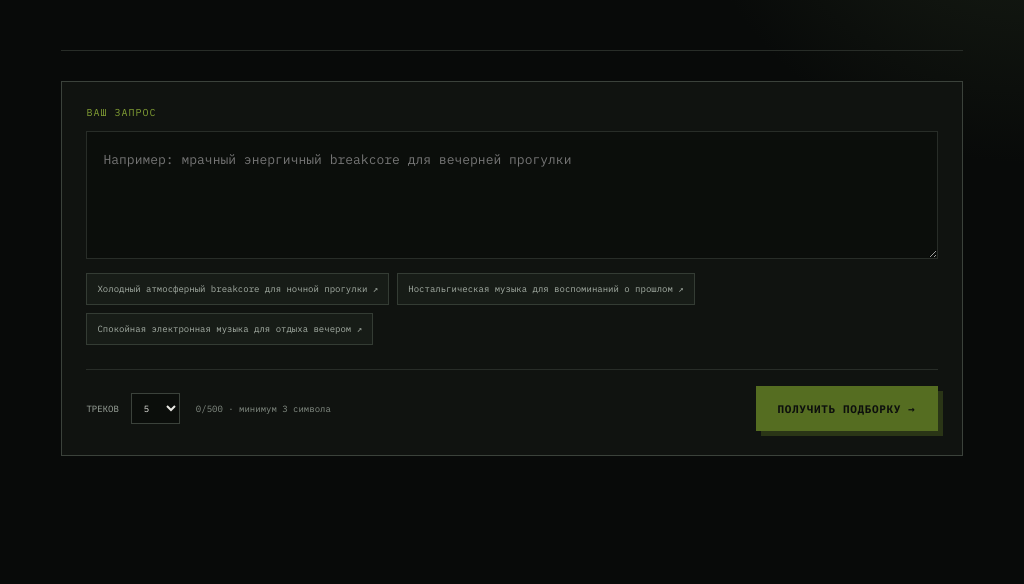
Test: CuratorView › keeps the query and allows retrying after a provider failure
The width and height of the screenshot is (1024, 584).
Type "Холодная музыка для прогулки" into the text box labelled "ВАШ ЗАПРОС". click: (512, 195)
box: x1=86 y1=131 x2=938 y2=259
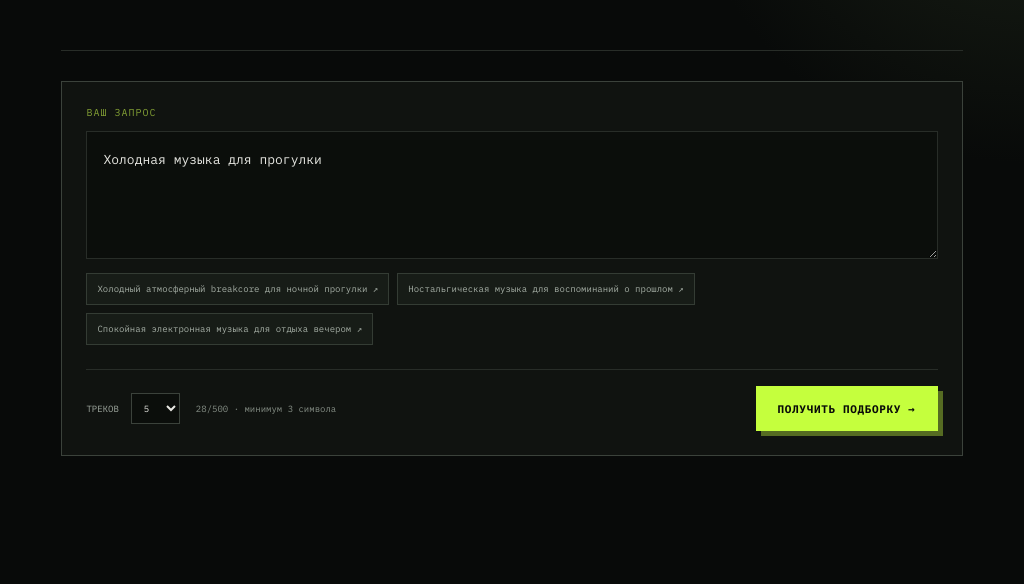
Click the button "ПОЛУЧИТЬ ПОДБОРКУ →". click: (847, 409)
box: x1=756 y1=386 x2=938 y2=431
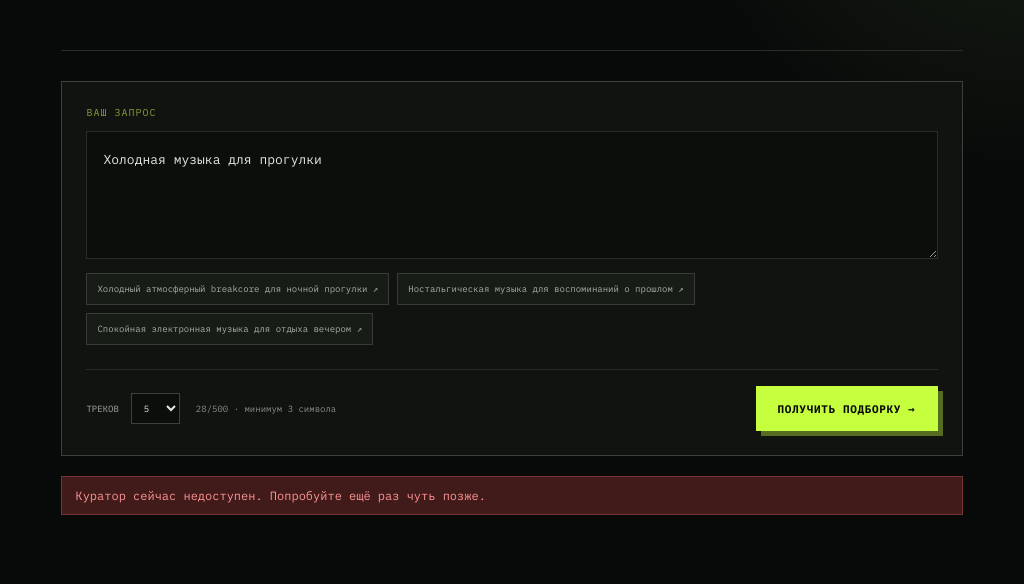
Expected: the message shows "Куратор сейчас недоступен", x1=75 y1=488 x2=486 y2=503
Click the button "ПОЛУЧИТЬ ПОДБОРКУ →". click: (847, 409)
box: x1=756 y1=386 x2=938 y2=431
(page scrolled)
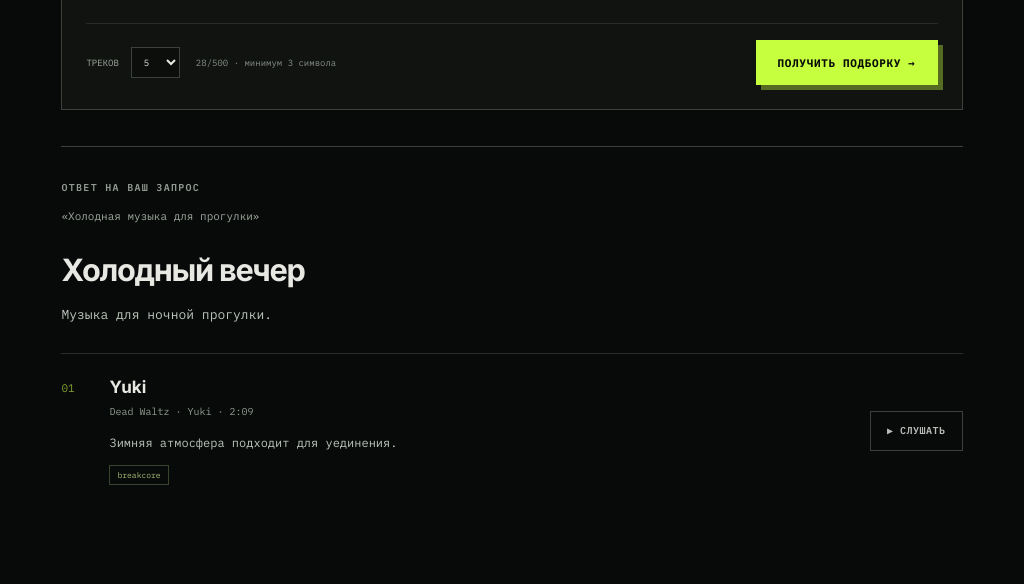
Expected: the text "Dead Waltz · Yuki · 2:09" is shown, x1=109 y1=405 x2=253 y2=418
